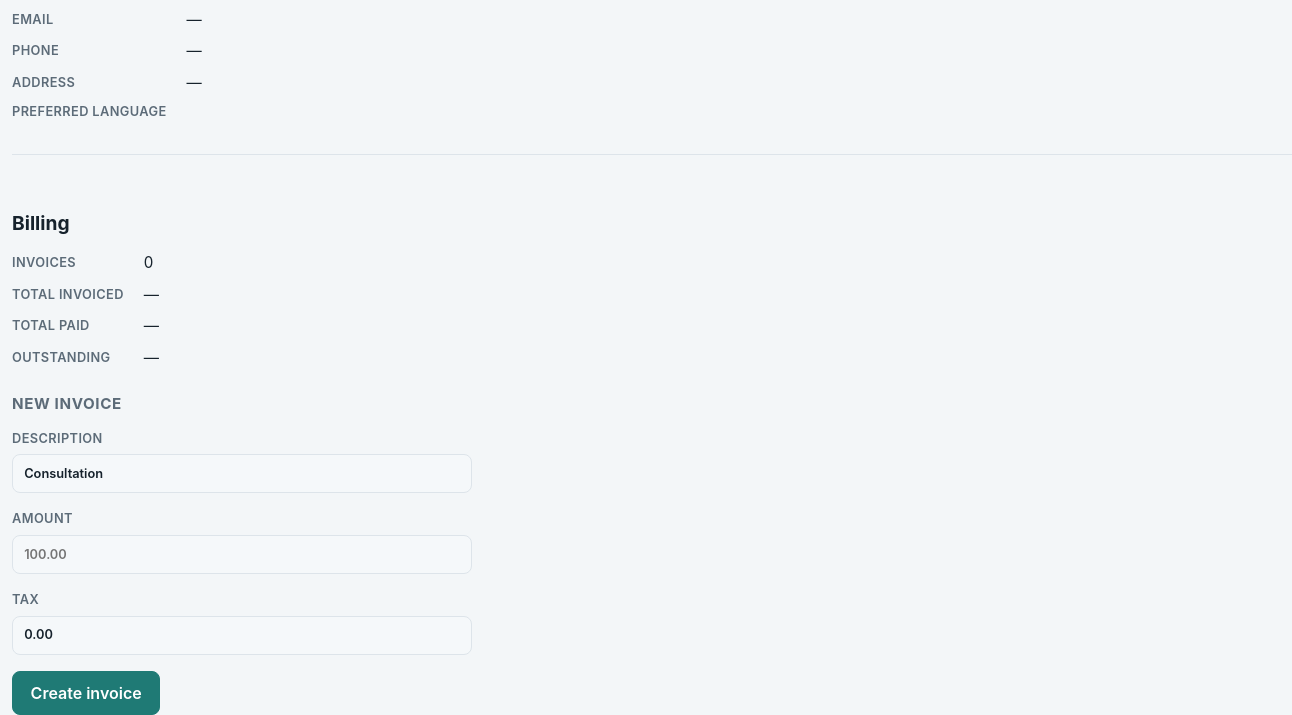
Test: PatientDetail invoice creation form validation and request mapping › rejects submission with no description or amount
(page scrolled)
Clear the field labelled "Description": (242, 474) [12,454,472,493]
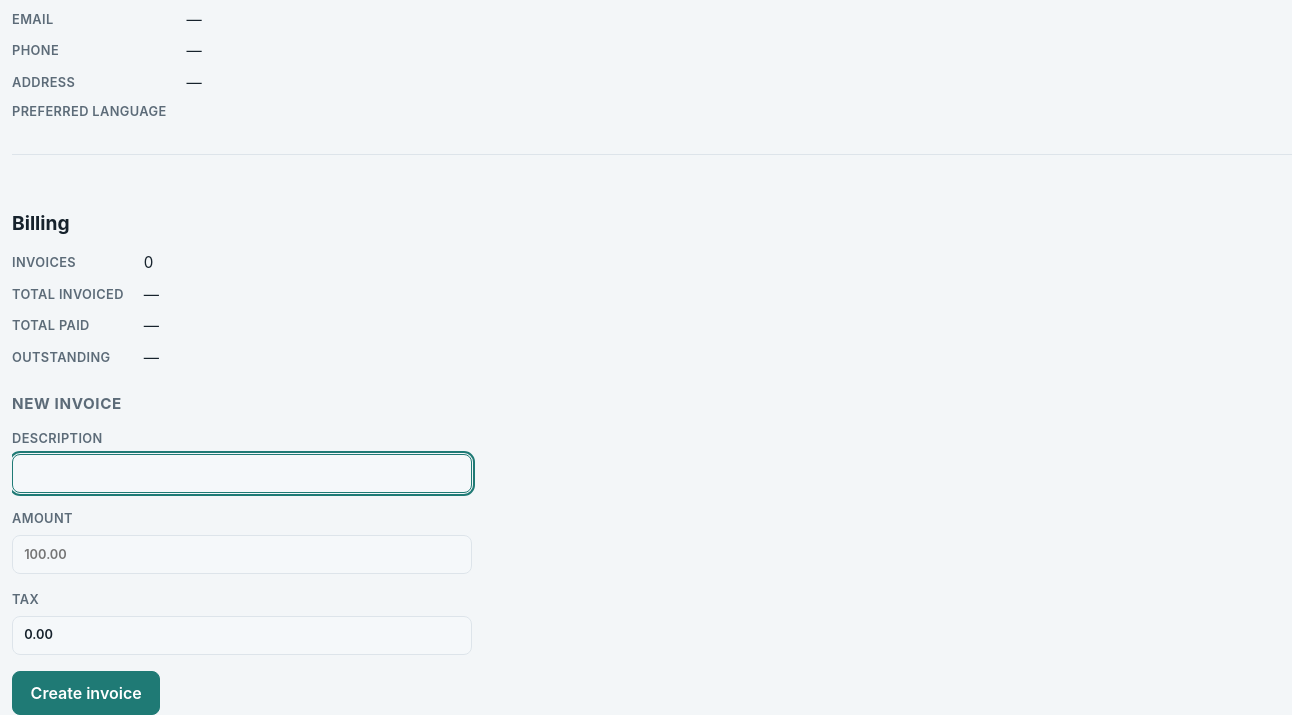
Click the button "Create invoice": (86, 693) [12,671,160,714]
(page scrolled)
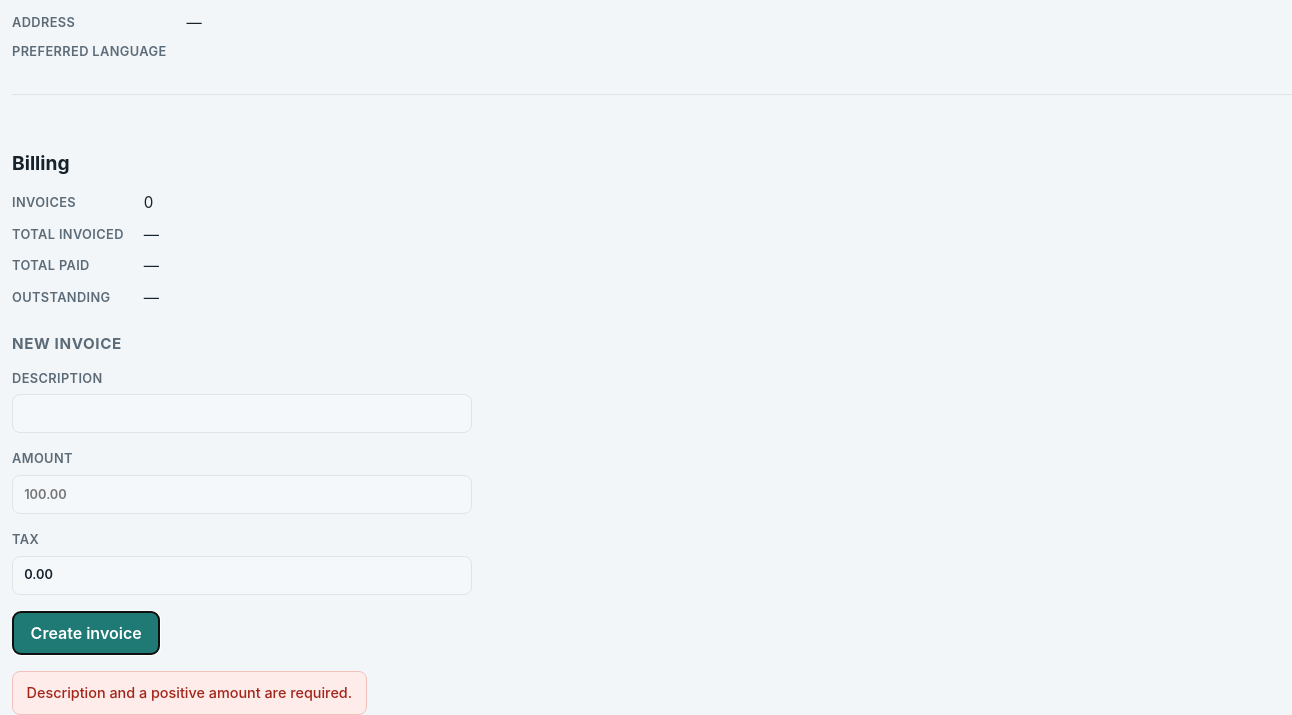
Expected: the text "Description and a positive amount are required." is shown, [12,671,367,714]
